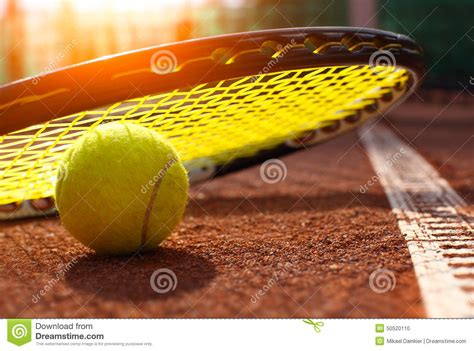tennis_ball: (54, 121, 189, 255)
